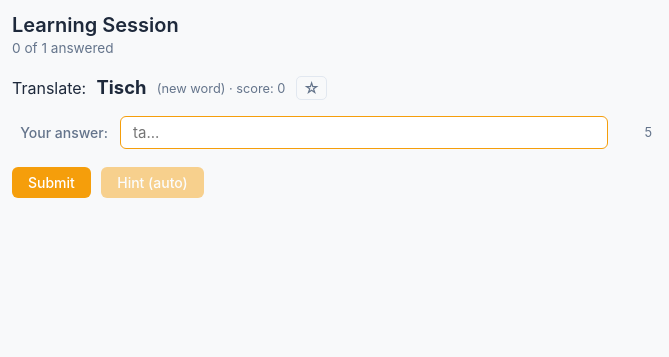
Test: TrainingScreen › shows incorrect status with the correct answer after a wrong answer
The width and height of the screenshot is (669, 357).
Type "wrong" into the field named "Your answer:" at [364, 132], box [120, 116, 608, 149]
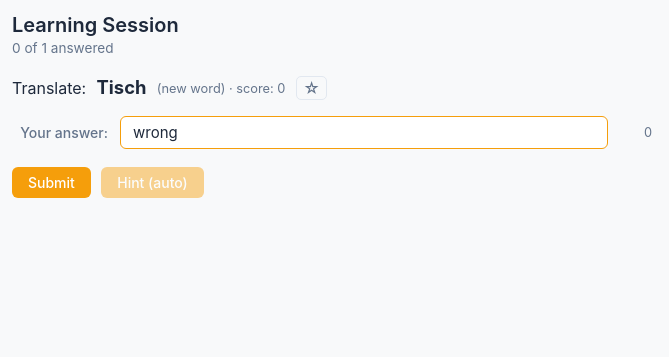
Click the button "Submit" at [51, 183], box [12, 167, 91, 198]
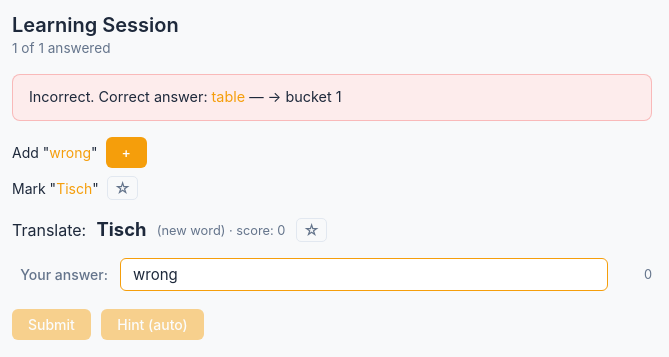
Expected: the message reads "Incorrect. Correct answer: table — → bucket 1", [12, 74, 652, 121]
